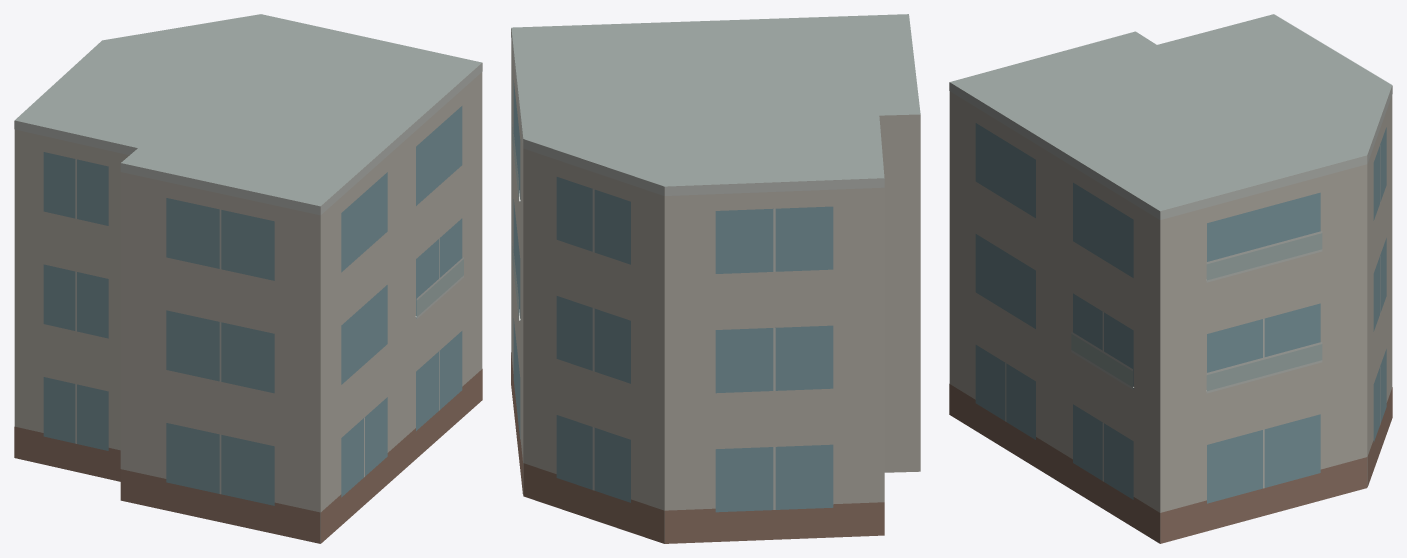
File: survey-upis-32734094.glb
3 renders of one model, left to right at view 1: azimuth 30°, elevation 25°; view 2: azimuth 150°, elevation 25°; view 3: azimuth 270°, elevation 25°, orthographic. The views are drawn at different scales.
Visible parts, largest first — view 1: survey-upis-32734094.tmp; view 2: survey-upis-32734094.tmp; view 3: survey-upis-32734094.tmp.
Part boxes in pixels (box(x1,y1,x2,y2)): survey-upis-32734094.tmp: box(14, 14, 482, 543); survey-upis-32734094.tmp: box(511, 14, 920, 543); survey-upis-32734094.tmp: box(949, 14, 1392, 543).
Size of the model in its own units: 11.65 by 9.15 by 11.05.
